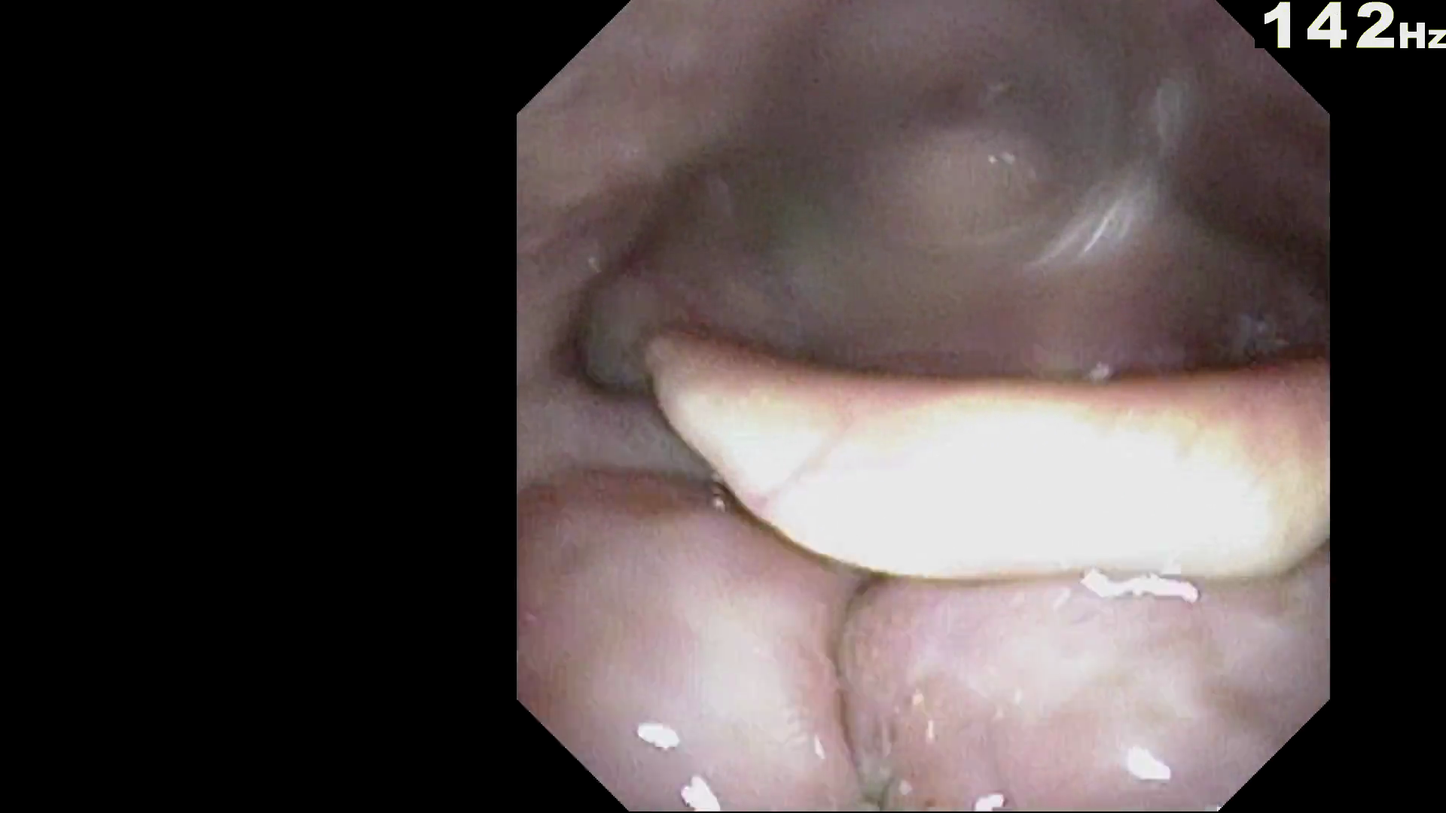epiglottis: (604, 345, 1219, 570)
